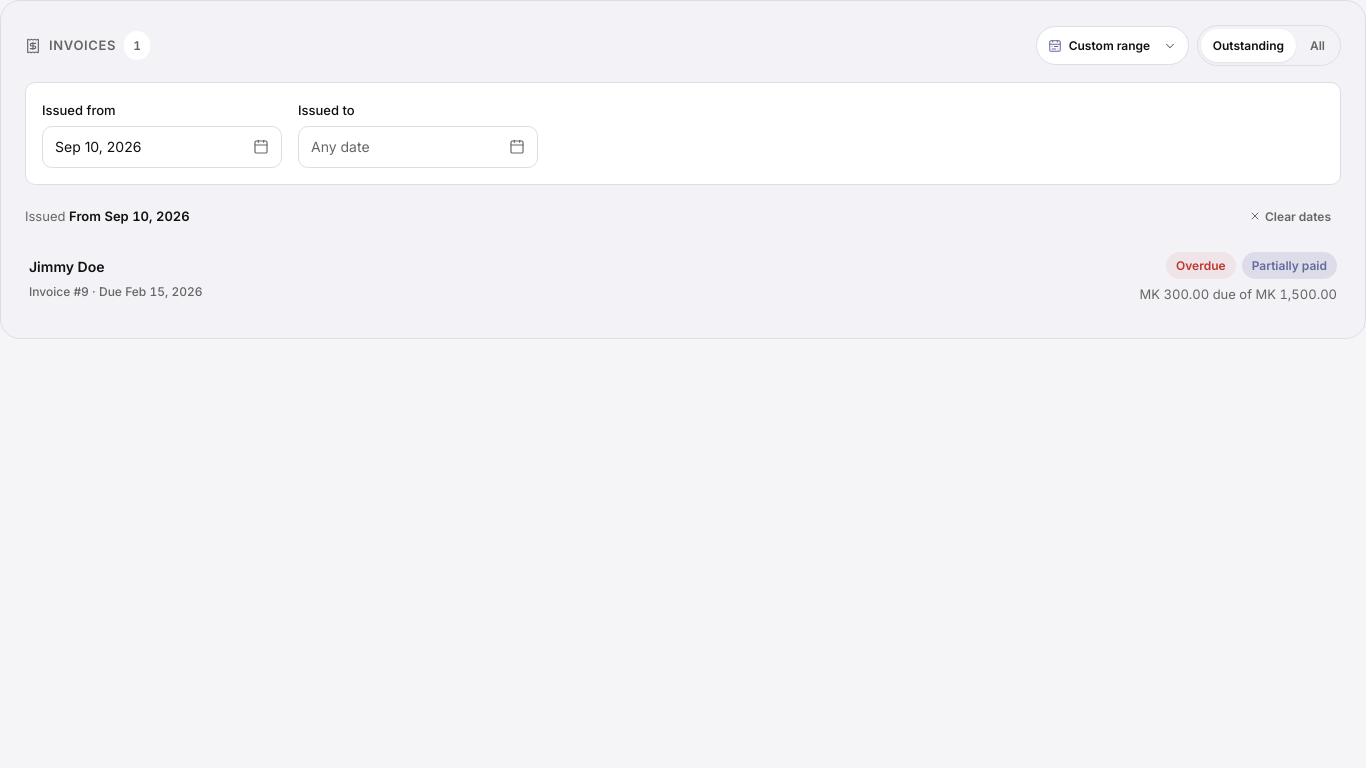
Test case: InvoicesListPage issue-date filter › custom range: picking dates filters inclusively of the end date
Expected: the text "Jimmy Doe" is shown, [29,258,104,275]
What coordinates should you click on to do the following:
click the button named "Issued to"
I would click on:
 (418, 147)
Its box is [298,126,538,168].
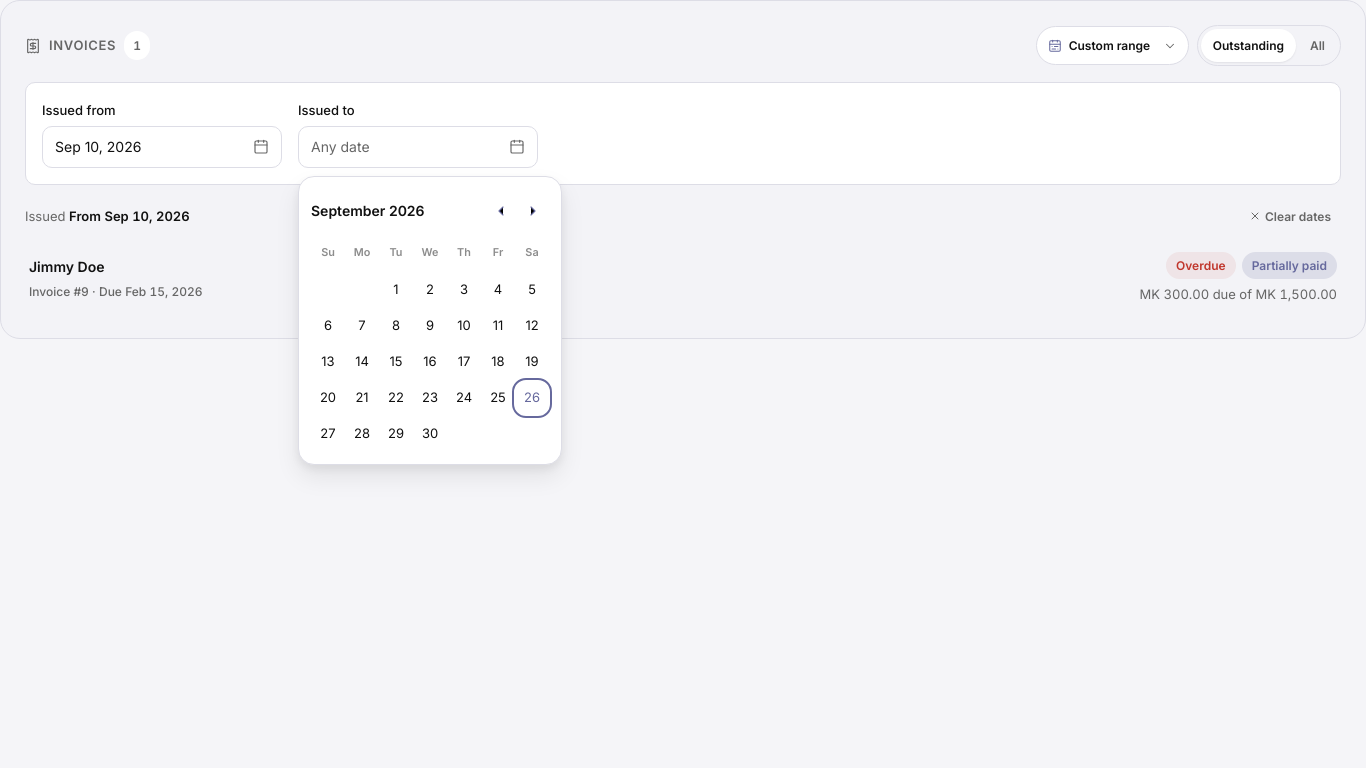
What coordinates should you click on to do the following:
click the button with class "rdp-day_button" showing "26"
I would click on:
 (532, 398)
Its box is [516,382,548,414].
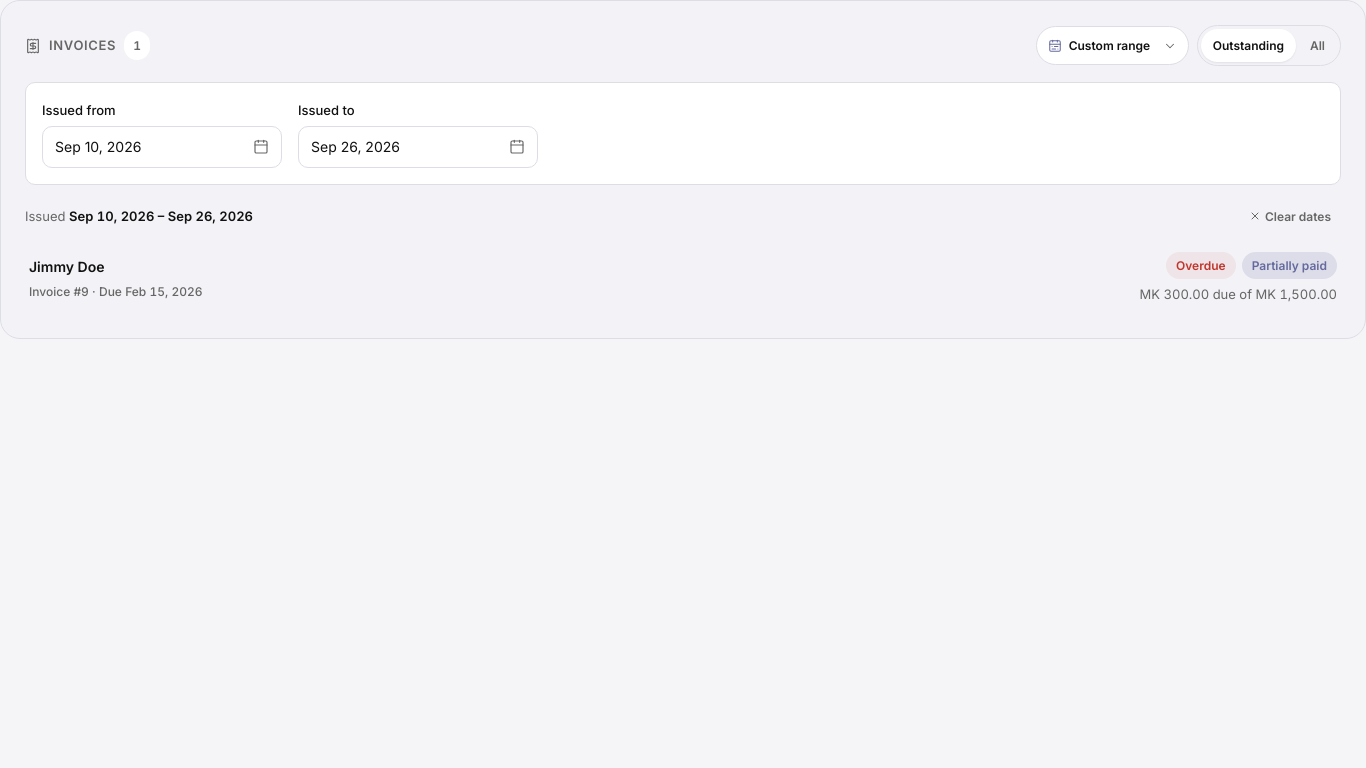
Result: the text "Sep 10, 2026 – Sep 26, 2026" is shown at [69,208,253,224]
